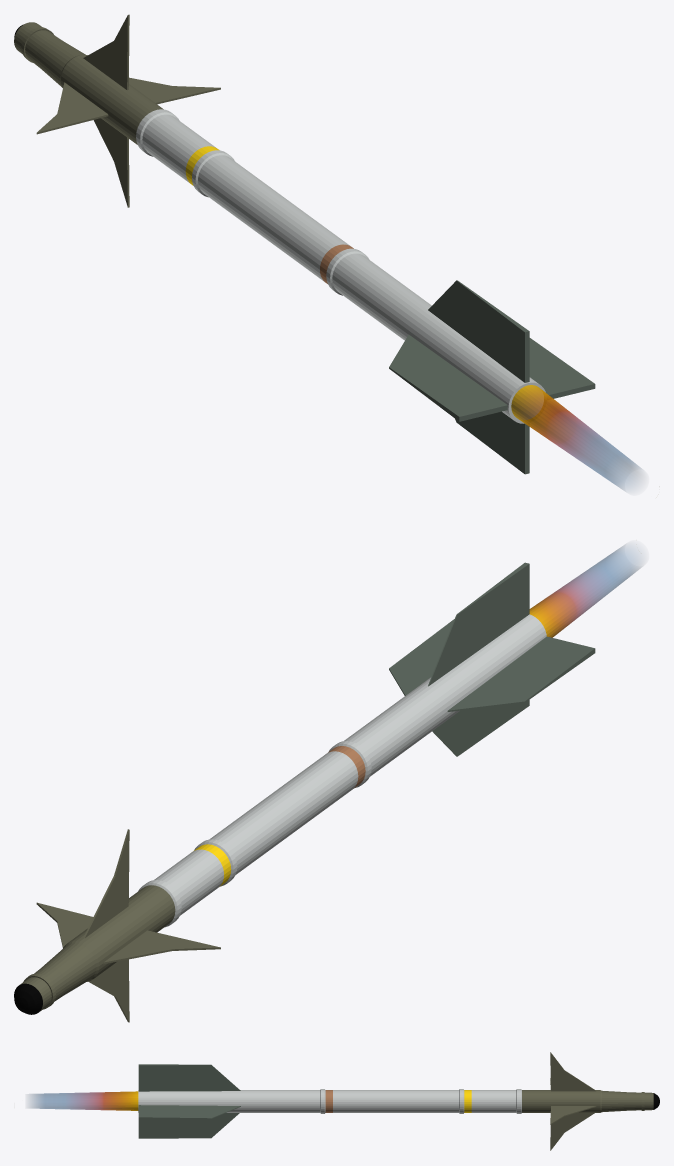
File: aim-9.glb
The picture shows the model from 3 angles, top to bottom: view 1: azimuth 30°, elevation 25°; view 2: azimuth 150°, elevation 25°; view 3: azimuth 270°, elevation 25°; orthographic projection. The views are drawn at different scales.
Visible parts, largest first — view 1: body, fire, fin-up, fin-left, fin-down, fin-right, canard-up, canard-left, canard-down, canard-right; view 2: body, fin-up, fin-left, fire, fin-down, fin-right, canard-up, canard-left, canard-down, canard-right; view 3: body, fin-up, fire, fin-down, fin-right, canard-up, canard-down, canard-right.
Boxes of the visible parts, x1,y1,x2,y2 form: body: (14,22,545,423); fire: (511,385,640,490); fin-up: (428,280,529,382); fin-left: (389,334,507,421); fin-down: (455,411,529,474); fin-right: (529,338,595,398); canard-up: (83,14,129,90); canard-left: (36,82,108,134); canard-down: (93,118,129,207); canard-right: (129,77,220,104); body: (14,614,546,1014); fin-up: (428,562,529,686); fin-left: (447,636,595,711); fire: (529,545,641,637); fin-down: (432,700,529,756); fin-right: (389,619,454,695); canard-up: (83,829,129,938); canard-left: (103,930,220,964); canard-down: (88,959,129,1022); canard-right: (36,902,93,947); body: (138,1089,659,1113); fin-up: (138,1064,240,1091); fire: (29,1091,138,1110); fin-down: (138,1113,239,1138); fin-right: (138,1105,240,1119); canard-up: (550,1052,595,1091); canard-down: (550,1113,594,1150); canard-right: (550,1106,596,1124).
Size of the model in its own units: 0.2108 by 0.2108 by 1.24.
Materials: 8 (2 with a texture image).
